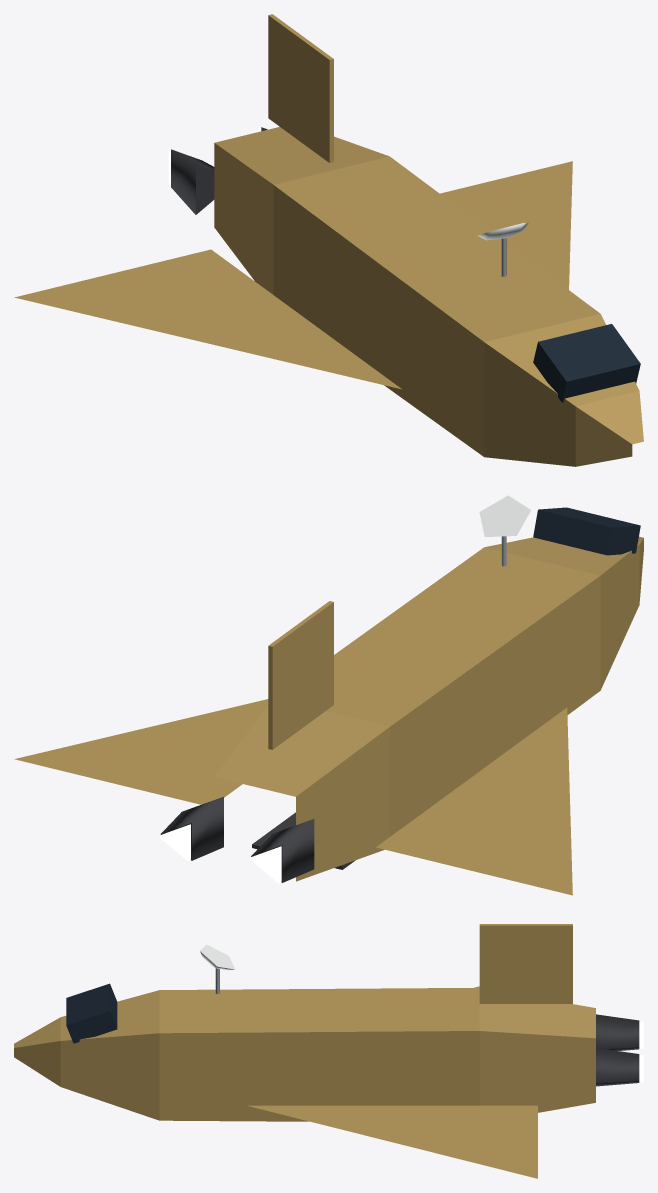
The model's file is space_ship_shuttle_mk7_lod2.glb.
3 views of the same model, one above another, from view 1: azimuth 30°, elevation 25°; view 2: azimuth 150°, elevation 25°; view 3: azimuth 270°, elevation 25° (orthographic). The views are drawn at different scales.
Visible parts, largest first — view 1: body, engine_1, antenna_0; view 2: body, engine_1, engine_0, antenna_0; view 3: body, engine_0, engine_1, antenna_0.
Part boxes in pixels (x1=…): body: x1=14, y1=14, x2=643, y2=466; engine_1: x1=168, y1=148, x2=214, y2=214; antenna_0: x1=477, y1=222, x2=528, y2=276; body: x1=14, y1=507, x2=643, y2=895; engine_1: x1=249, y1=819, x2=314, y2=883; engine_0: x1=159, y1=796, x2=223, y2=861; antenna_0: x1=479, y1=495, x2=530, y2=566; body: x1=14, y1=924, x2=595, y2=1178; engine_0: x1=596, y1=1048, x2=643, y2=1086; engine_1: x1=596, y1=1014, x2=643, y2=1050; antenna_0: x1=200, y1=944, x2=235, y2=994.
Bounding box in the file's own units: 13.04 × 5.18 × 16.75.
